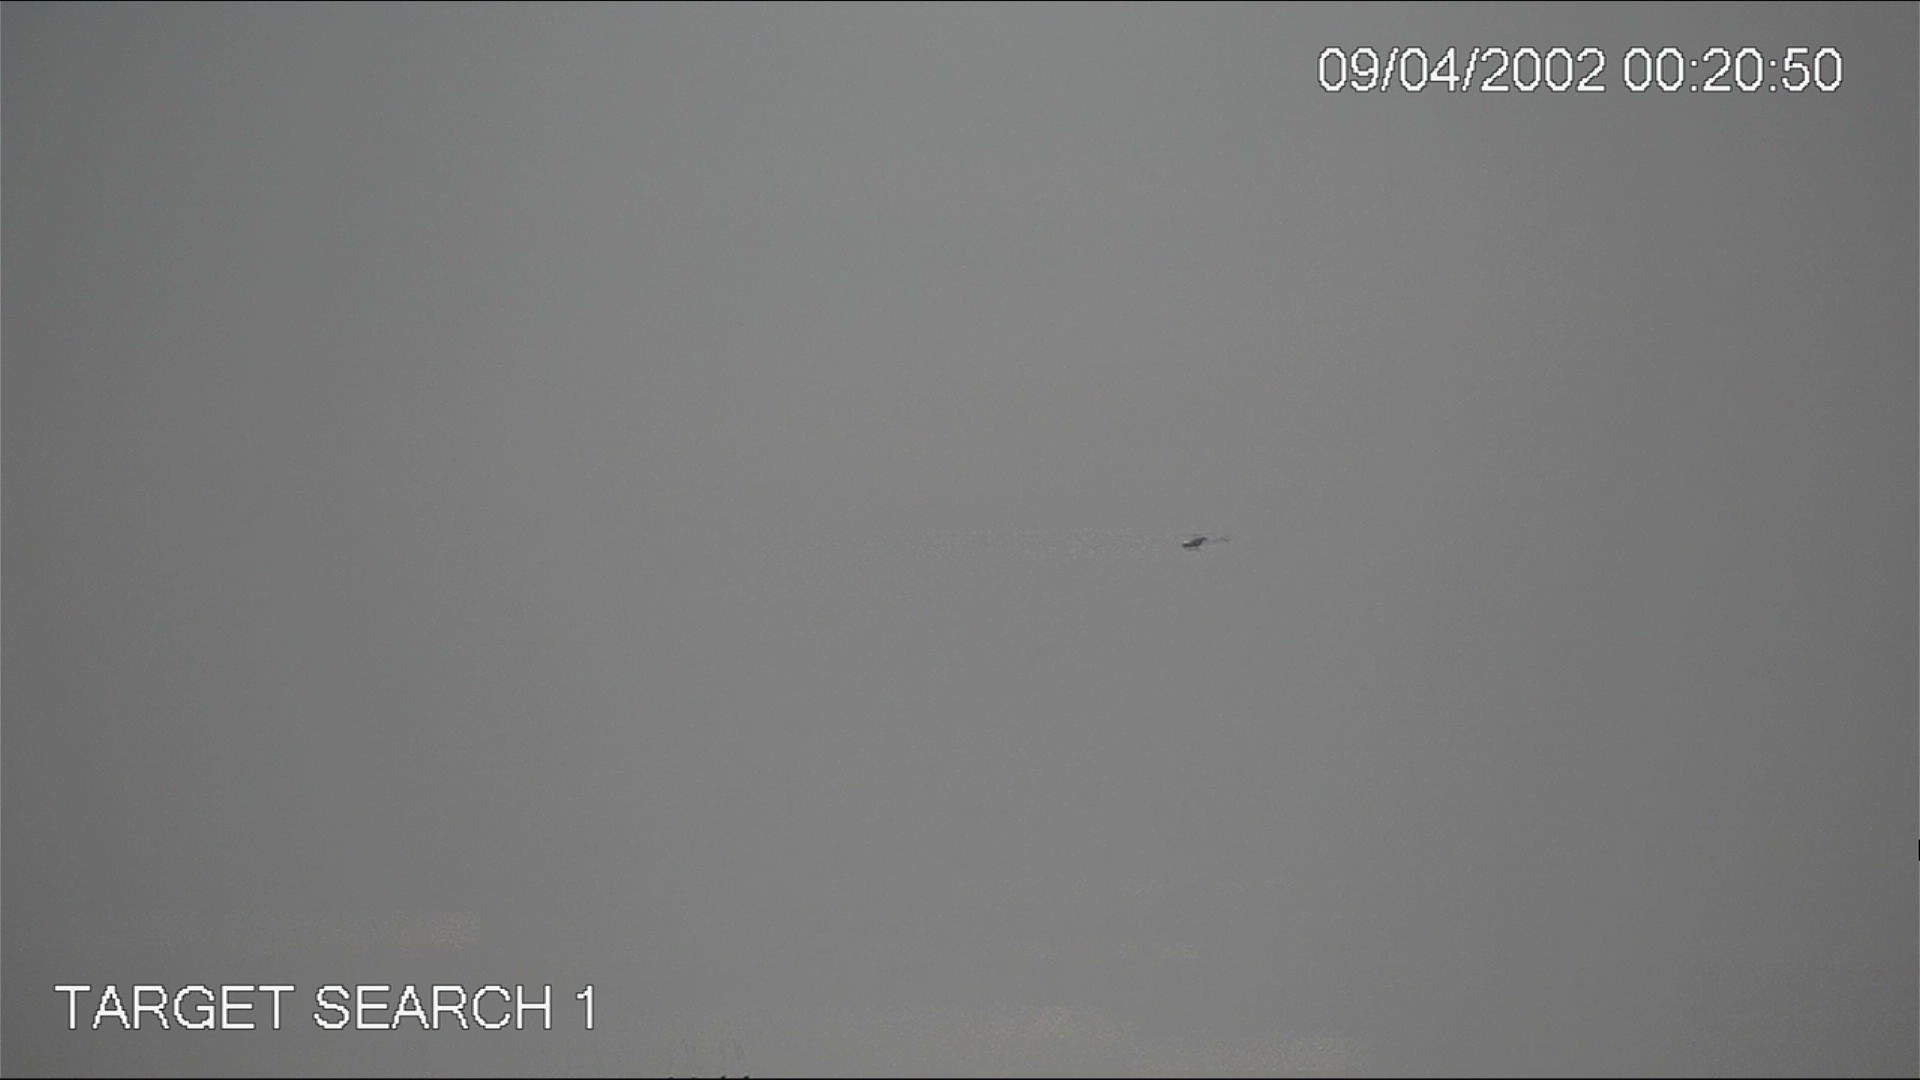SU_30: (1178, 533, 1211, 550)
